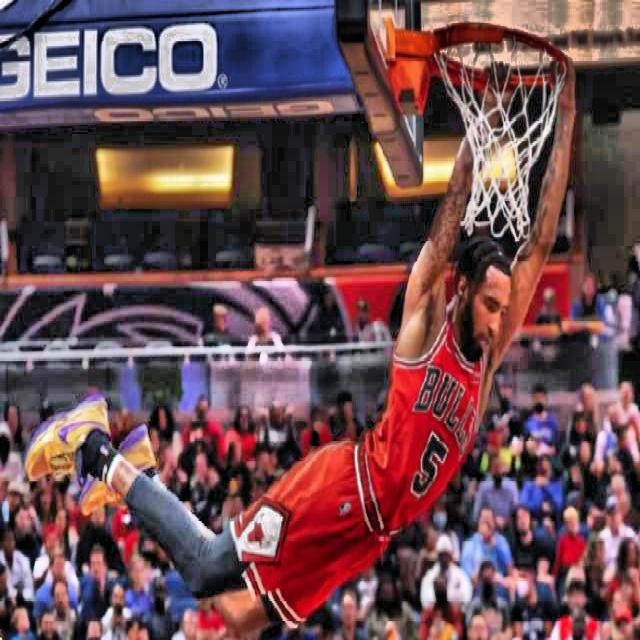rim: (429, 23, 568, 237)
